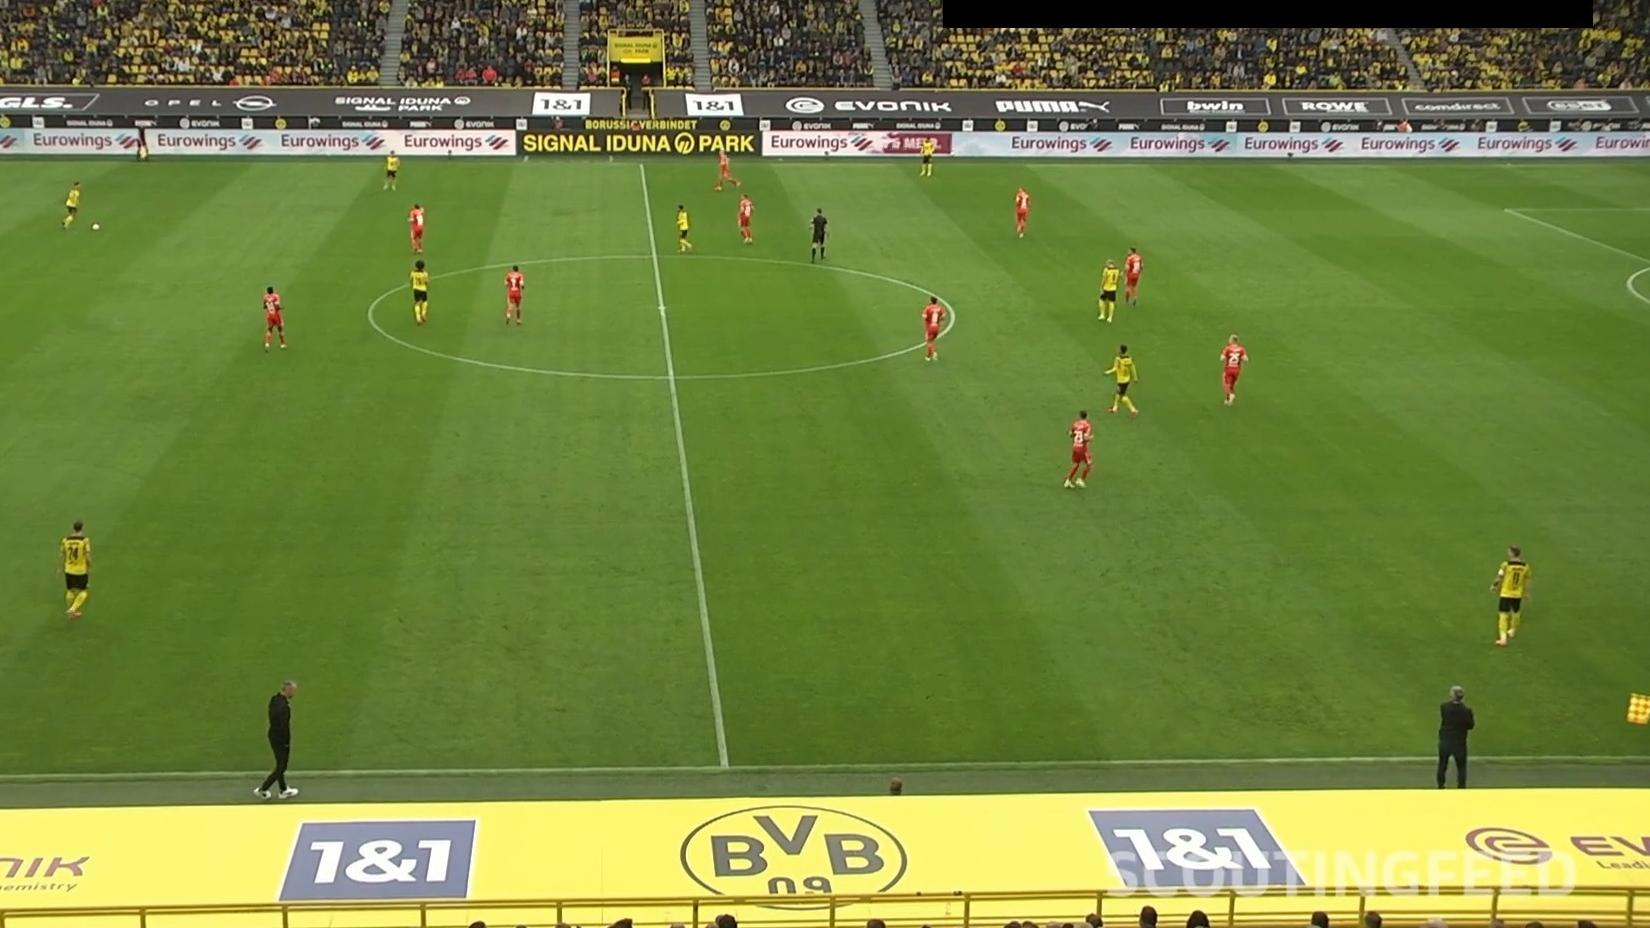ball: (91, 221, 101, 232)
